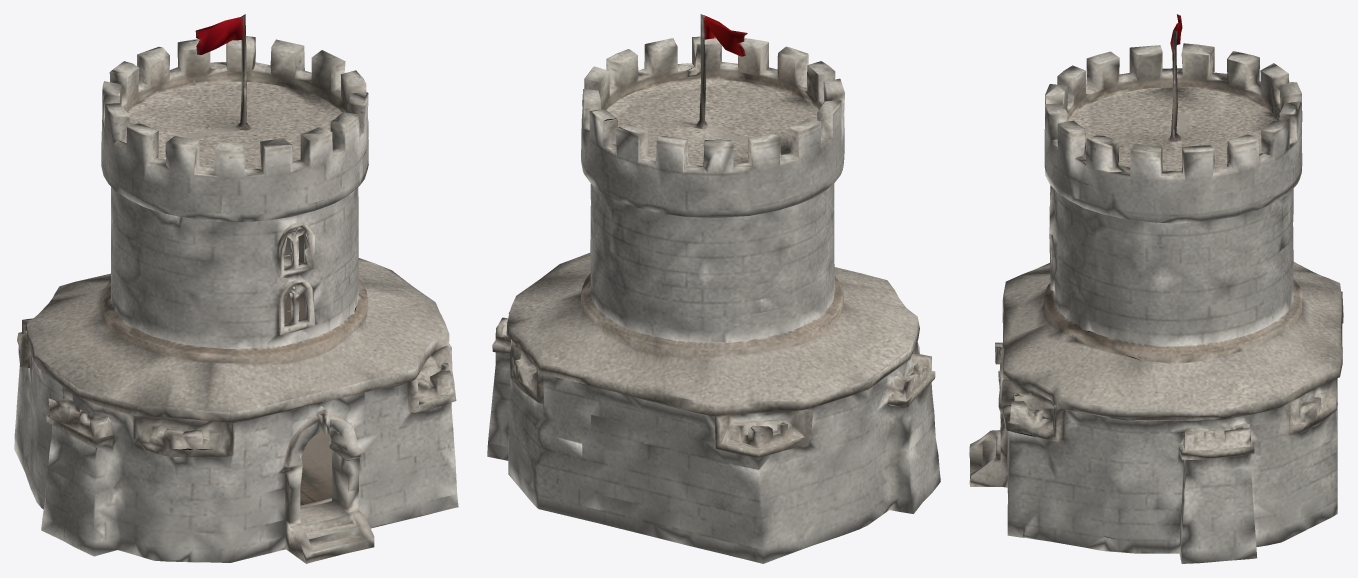
File: tower.glb
3 views of the same model, side by side, from view 1: azimuth 30°, elevation 25°; view 2: azimuth 150°, elevation 25°; view 3: azimuth 270°, elevation 25° (orthographic). The views are drawn at different scales.
Parts seen in each view (by area): view 1: Mesh_0.001; view 2: Mesh_0.001; view 3: Mesh_0.001.
Part boxes in pixels (<box>): Mesh_0.001: <box>14,14,458,563</box>; Mesh_0.001: <box>487,14,940,563</box>; Mesh_0.001: <box>969,14,1343,563</box>.
Size of the model in its own units: 1.7 by 1.89 by 1.44.
1 material, 1 textured.
